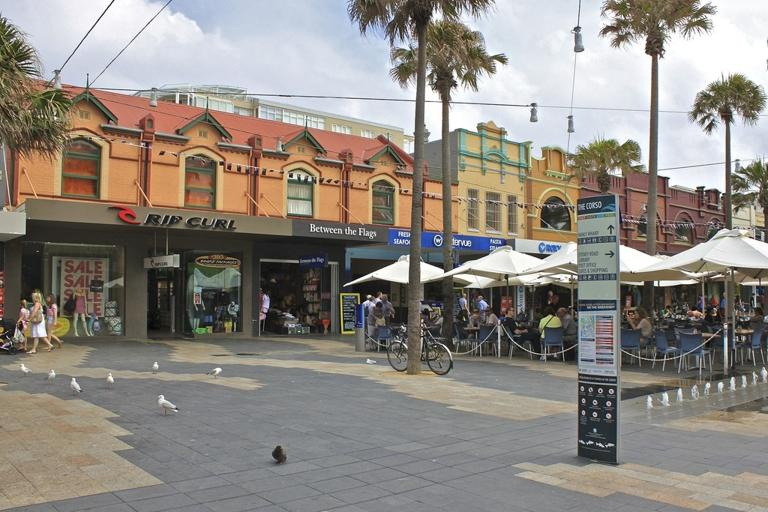non-vehicle: (385, 318, 454, 374), (0, 320, 27, 355)
